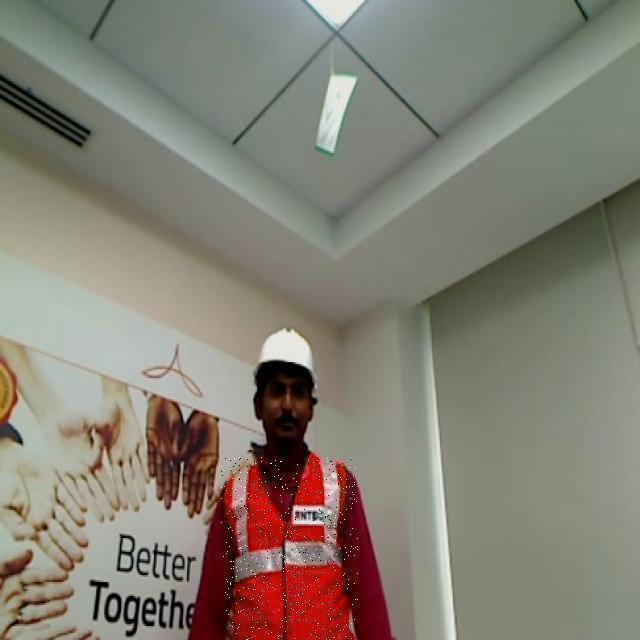helmet: (249, 330, 319, 398)
vest: (221, 457, 358, 640)
